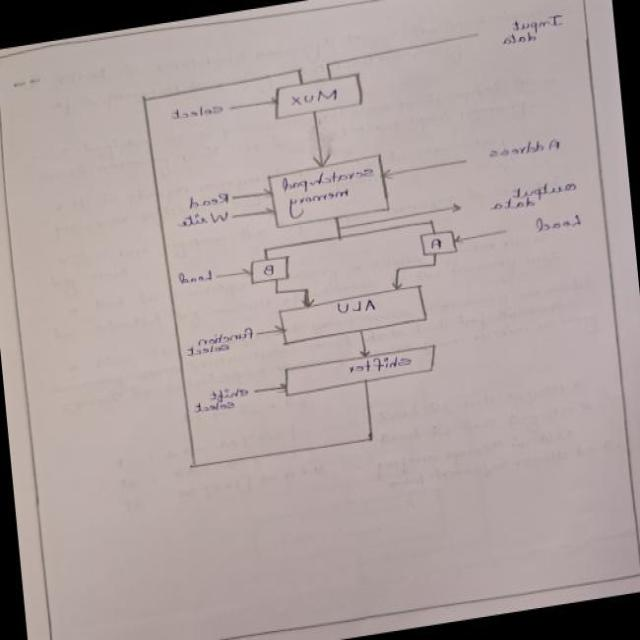Figure Detection - v3 Dataset Version2: (131, 0, 614, 489)
